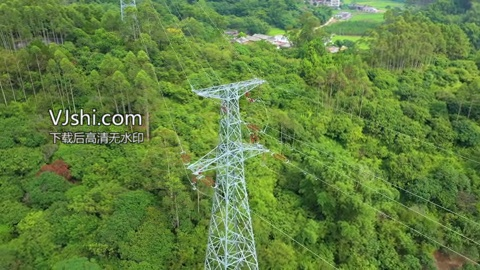tower_body: (183, 72, 274, 270)
tower_foot: (204, 236, 261, 270)
tower_head: (188, 77, 269, 102)
